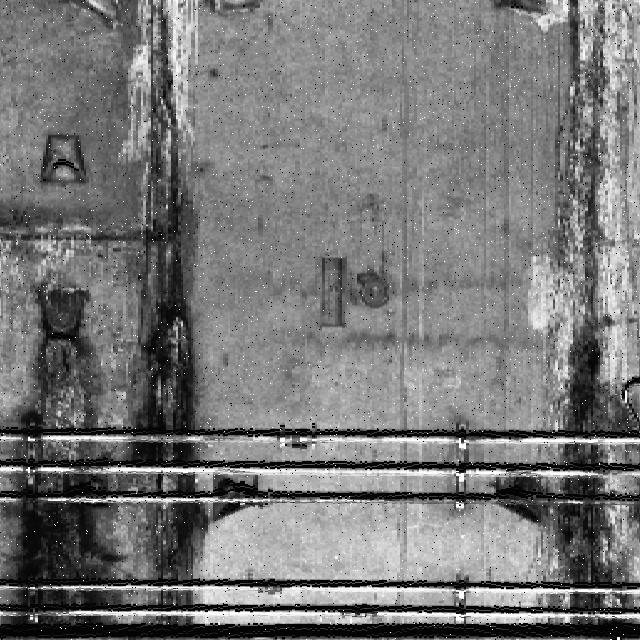leakage: (527, 0, 640, 632), (119, 0, 218, 633), (1, 269, 101, 639)
